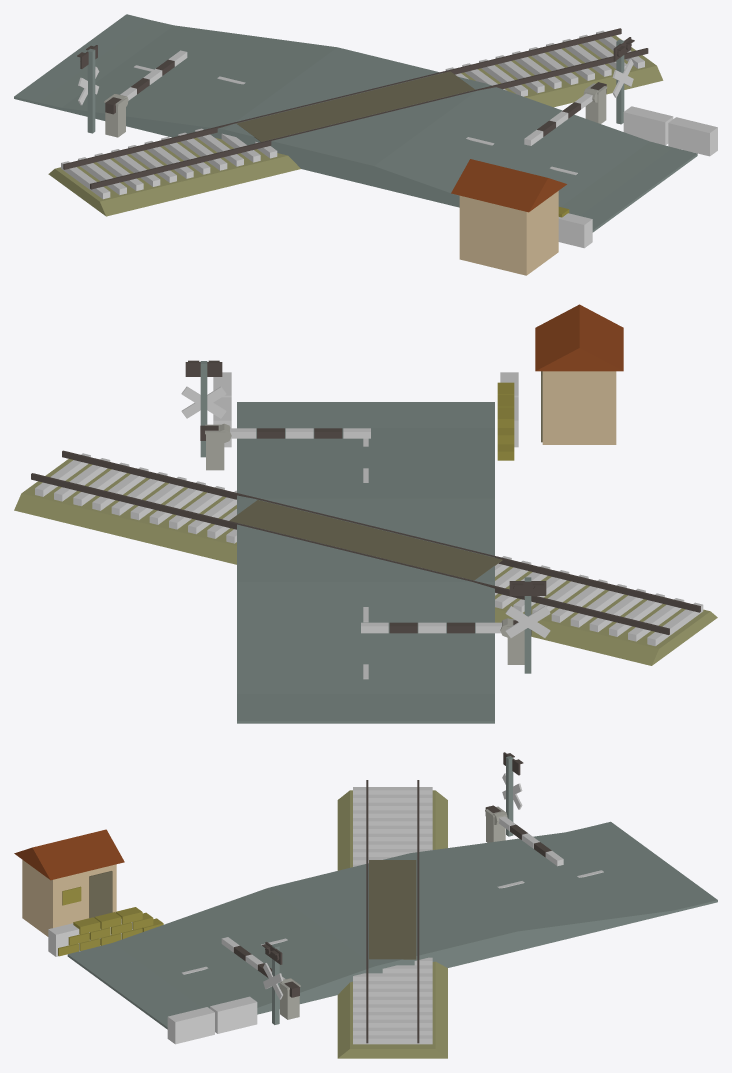
Rendered from SM_PasoNivel_60_v3_Militar_LOD0.fbx.
The picture shows the model from 3 angles, top to bottom: view 1: azimuth 30°, elevation 25°; view 2: azimuth 150°, elevation 25°; view 3: azimuth 270°, elevation 25°; orthographic projection. The views are drawn at different scales.
Visible parts, largest first — view 1: SM_paso_nivel_kit_v8_LOD0, Barrera_1, Barrera_2; view 2: SM_paso_nivel_kit_v8_LOD0, Barrera_1, Barrera_2; view 3: SM_paso_nivel_kit_v8_LOD0, Barrera_2, Barrera_1.
Boxes of the visible parts, <box> form: SM_paso_nivel_kit_v8_LOD0: <box>14,14,717,275</box>; Barrera_1: <box>524,82,606,145</box>; Barrera_2: <box>105,50,187,114</box>; SM_paso_nivel_kit_v8_LOD0: <box>14,304,717,723</box>; Barrera_1: <box>200,423,370,442</box>; Barrera_2: <box>361,618,531,637</box>; SM_paso_nivel_kit_v8_LOD0: <box>14,752,717,1058</box>; Barrera_2: <box>485,805,563,866</box>; Barrera_1: <box>221,937,299,997</box>.
Size of the model in its own units: 20 by 3 by 23.01.
